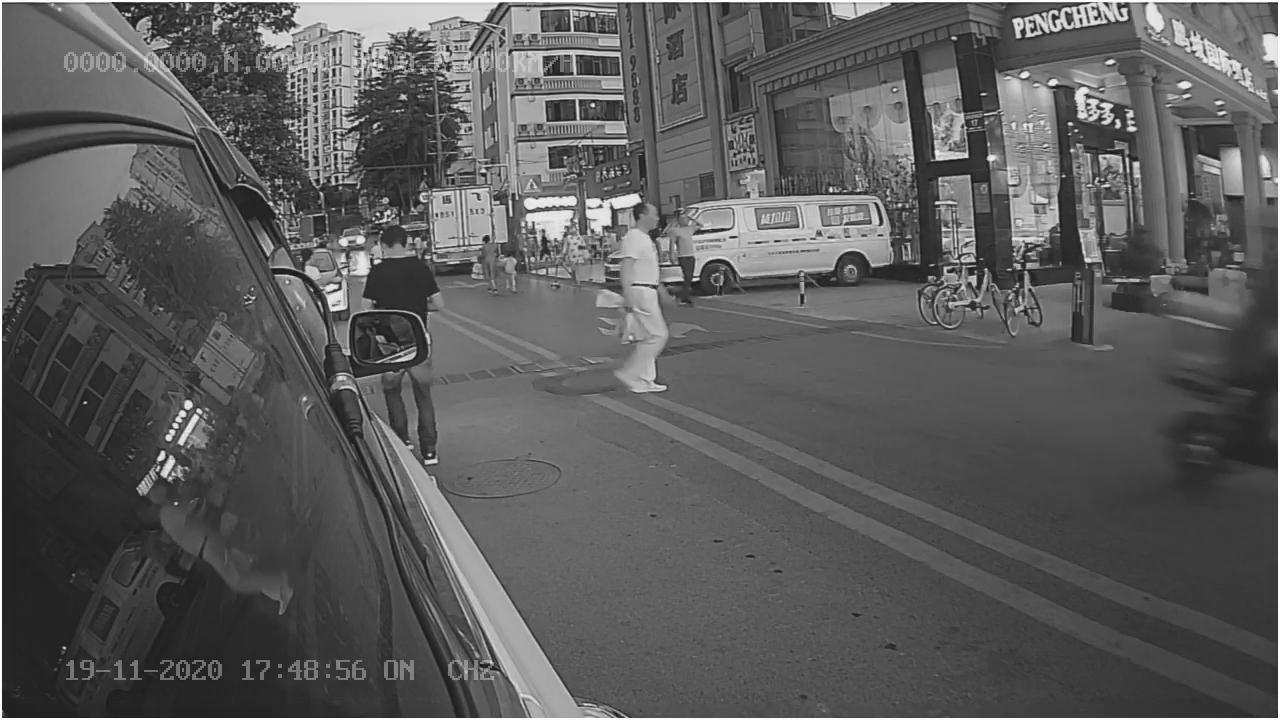person: (598, 202, 687, 409)
